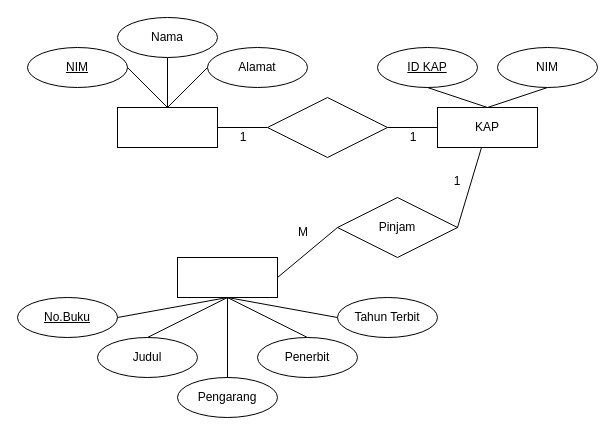
The diagram is 615 pixels wide and 435 high, and some of its shapes have lost their labels. Each missing label, with the box of its shape:
Buku: (176, 256, 278, 298)
Daftar: (266, 96, 388, 158)
Mahasiswa: (116, 106, 218, 148)
